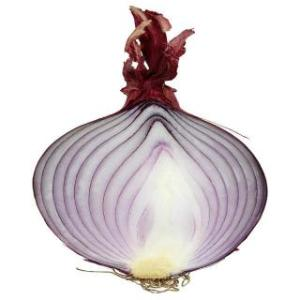onion: (29, 97, 268, 288)
